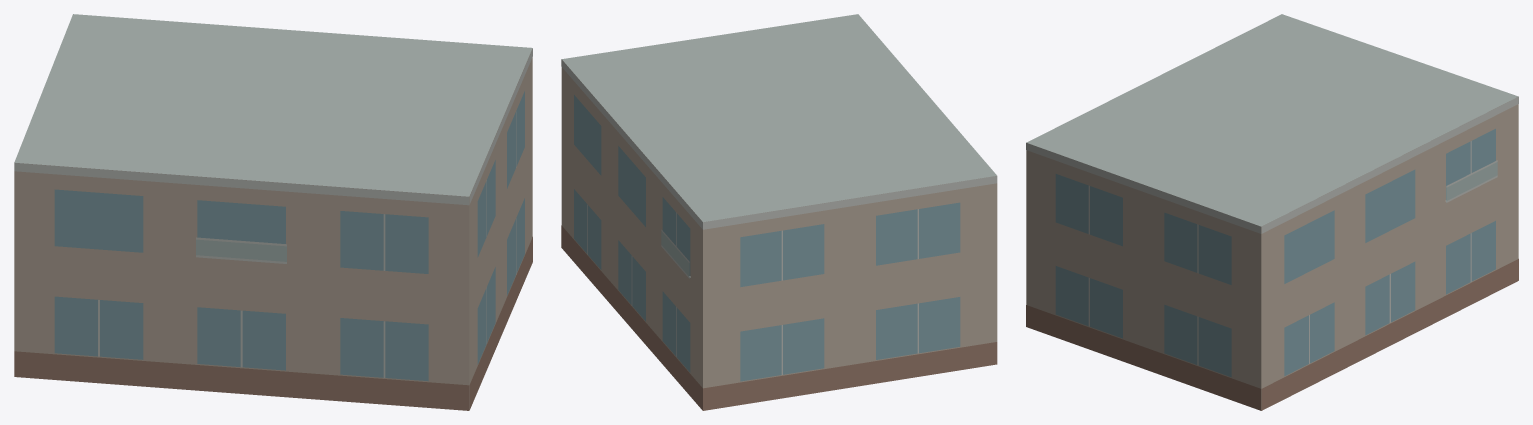
The model's file is survey-upis-32674284.glb.
3 views of the same model, side by side, from view 1: azimuth 30°, elevation 25°; view 2: azimuth 150°, elevation 25°; view 3: azimuth 270°, elevation 25° (orthographic). The views are drawn at different scales.
Visible parts, largest first — view 1: survey-upis-32674284.tmp; view 2: survey-upis-32674284.tmp; view 3: survey-upis-32674284.tmp.
Part boxes in pixels (x1,y1,x2,y2): survey-upis-32674284.tmp: (14,14,532,410); survey-upis-32674284.tmp: (561,14,997,410); survey-upis-32674284.tmp: (1026,14,1518,410).
Size of the model in its own units: 15.11 by 6.1 by 14.79.
